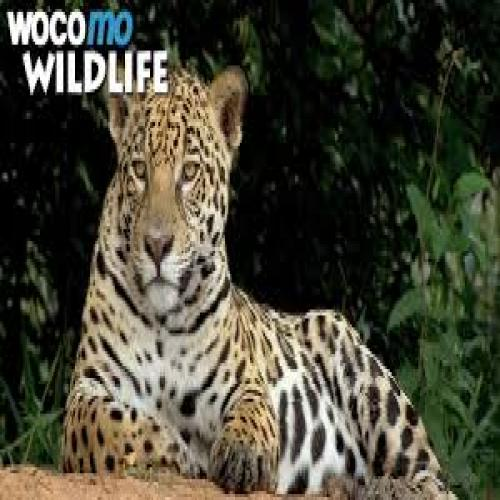jaguar_not-endangered: (69, 71, 433, 482)
